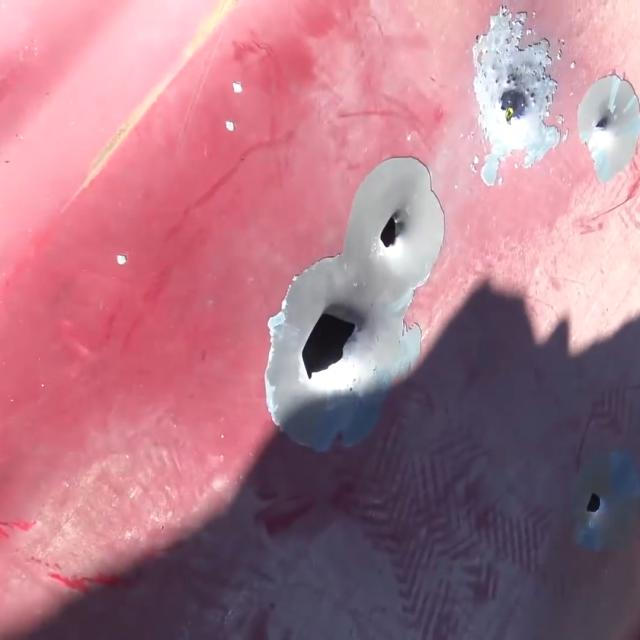bullets: (257, 258, 407, 456), (467, 16, 568, 186), (333, 157, 445, 309), (575, 76, 640, 180), (565, 452, 627, 552)
